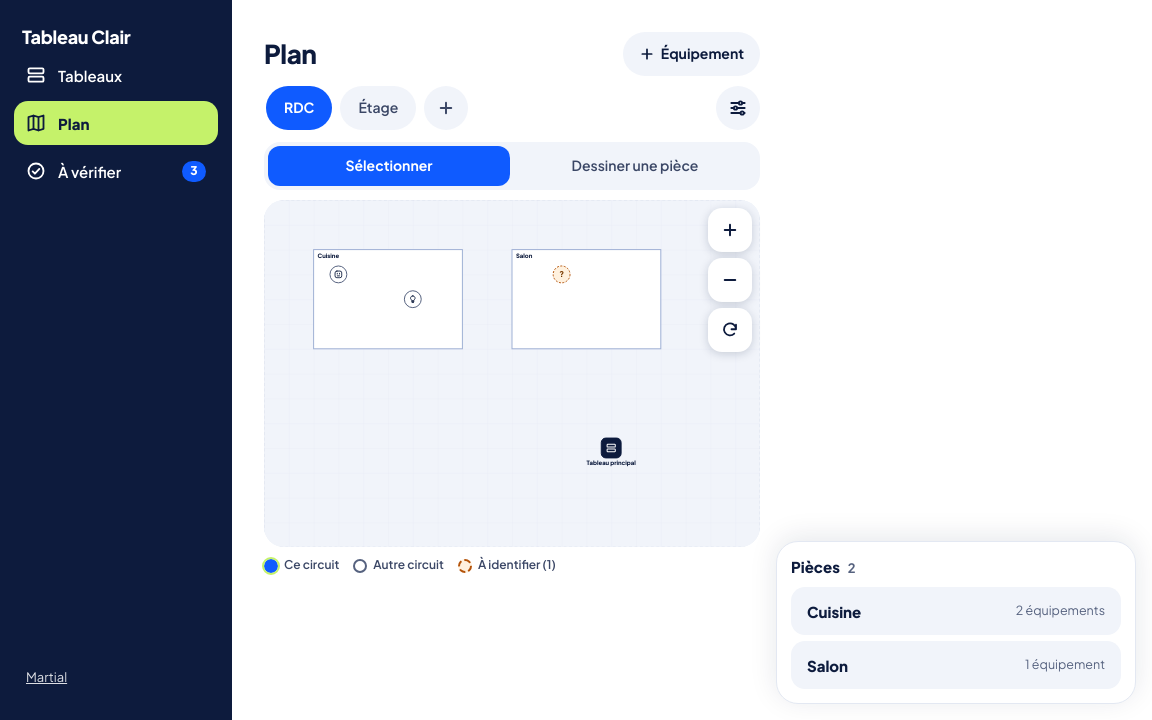
Test: affichage › change d’étage
What coordinates should you click on to do the following:
click the tab "Étage"
I would click on:
 (378, 108)
Its box is 340,86 -> 416,130.
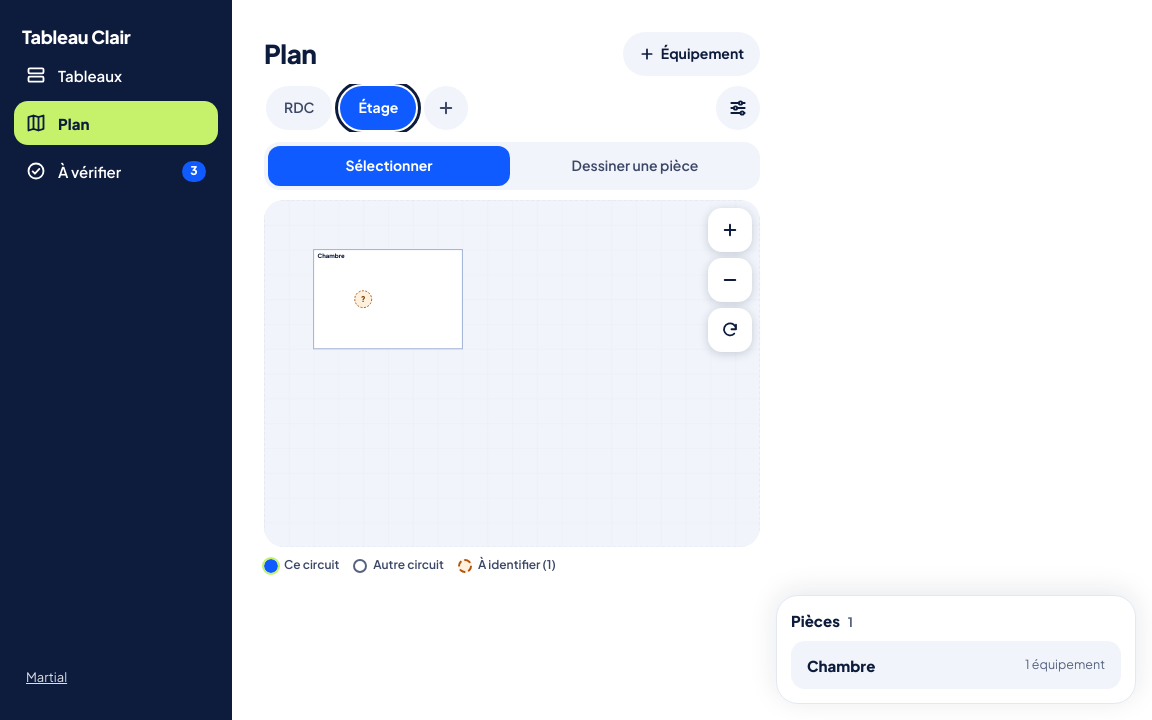
expect the button "Pièce Chambre" is shown: met, box 318,252 -> 345,258
expect the button "pièce Cuisine" is gone: met
